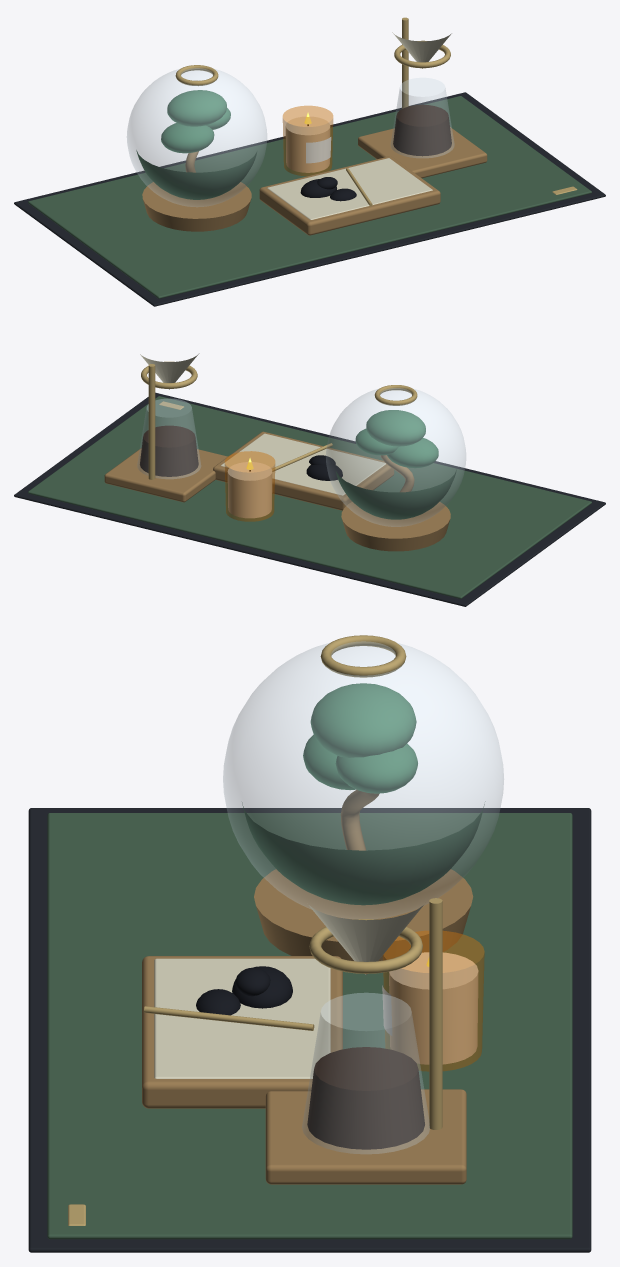
Rendered from atelier-decor-botanical-matcha.glb.
3 renders of one model, top to bottom at view 1: azimuth 30°, elevation 25°; view 2: azimuth 150°, elevation 25°; view 3: azimuth 270°, elevation 25°, orthographic. The views are drawn at different scales.
Bounding box in the file's own units: 0.78 × 0.234 × 0.4201.
